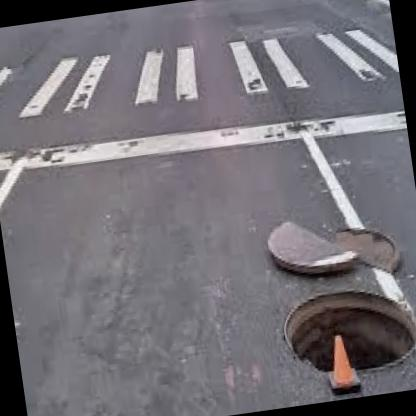manholes: (239, 172, 416, 409)
